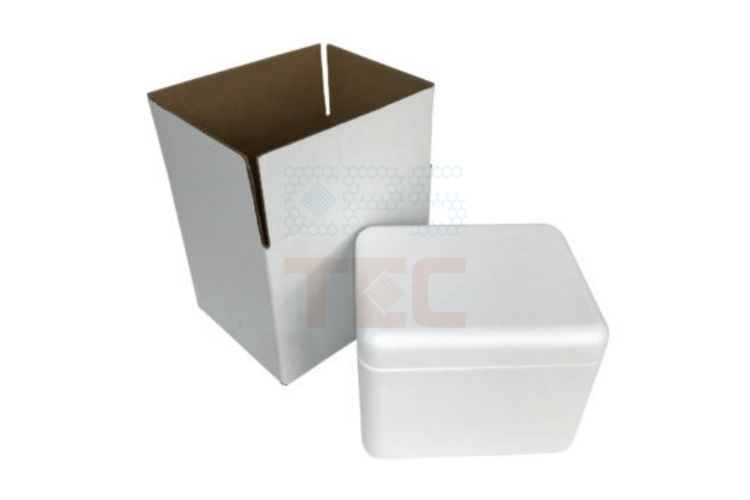Boxes: (355, 224, 608, 458)
